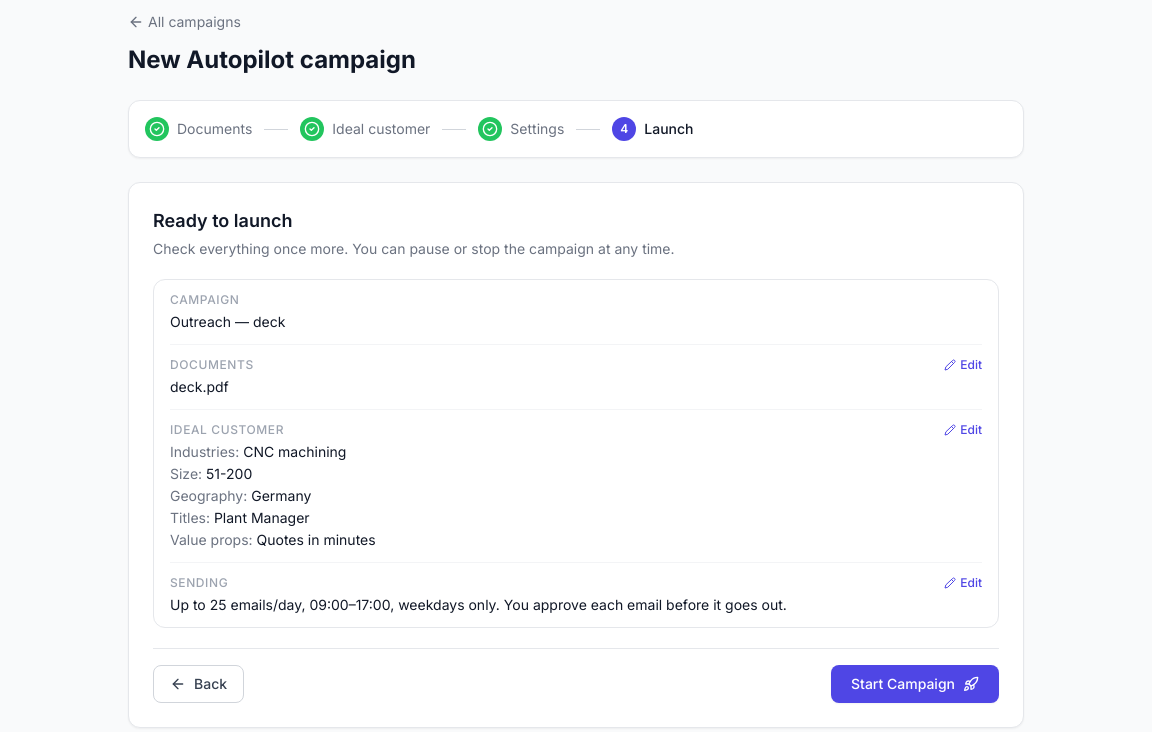
it: CampaignNew wizard › jumps back to a step from the summary
Click the button with aria-label "Edit Sending" at [963, 583], box [944,575,982,591]
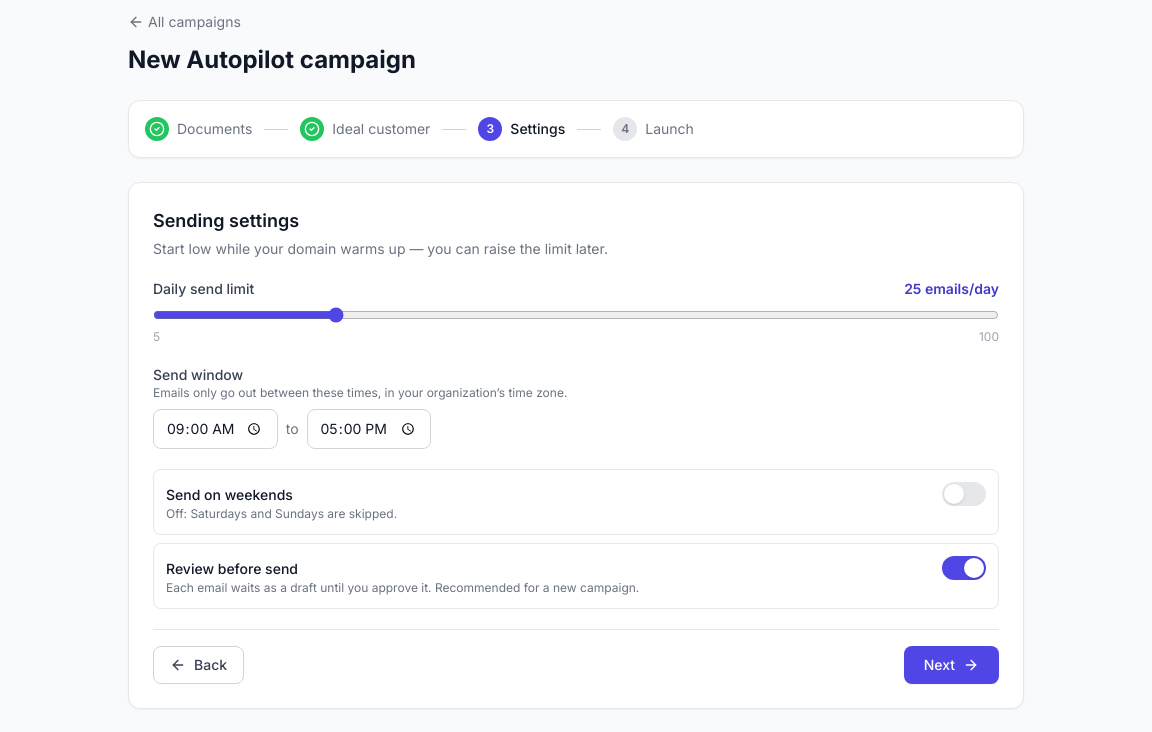
Result: the heading "Sending settings" is shown at [153,210,299,231]
